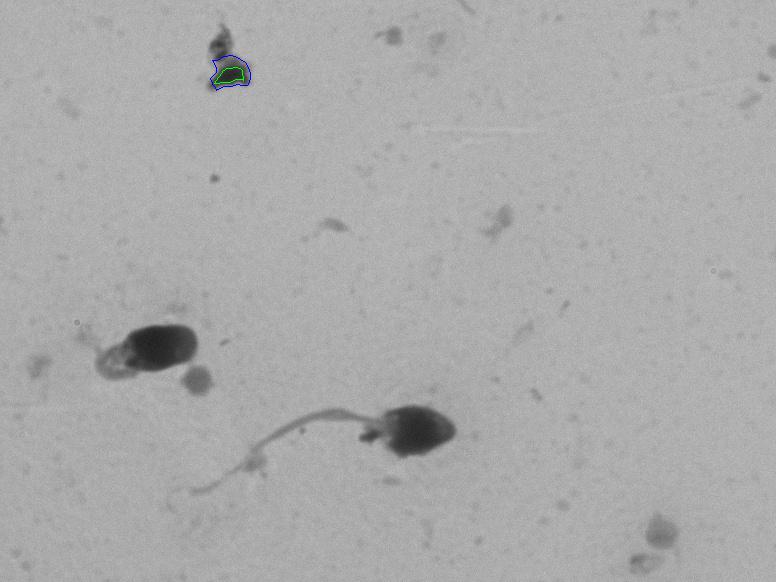Abnormal: (199, 371, 485, 522), (73, 286, 256, 422)
